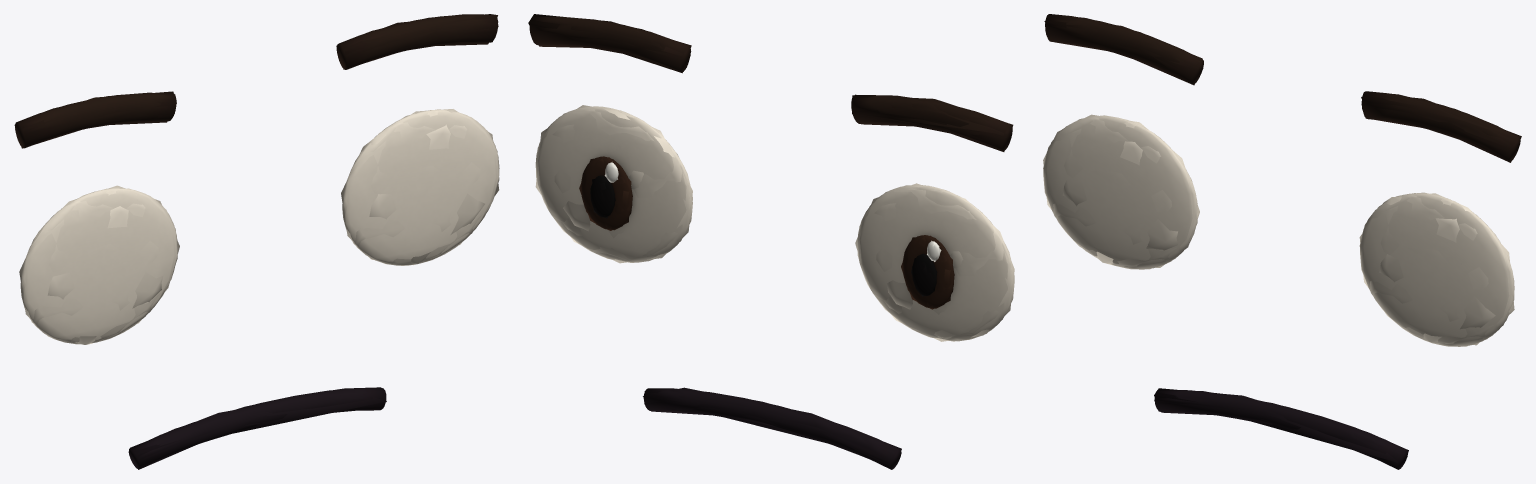
The model's file is worried.glb.
The picture shows the model from 3 angles, left to right: view 1: azimuth 30°, elevation 25°; view 2: azimuth 150°, elevation 25°; view 3: azimuth 330°, elevation 25°; orthographic projection.
Visible parts, largest first — view 1: near, mid, far; view 2: near, mid, far; view 3: near, mid, far.
Boxes of the visible parts, x1,y1,x2,y2 form: near: [15, 14, 499, 469]; mid: [15, 14, 499, 468]; far: [14, 14, 499, 469]; near: [529, 16, 1014, 469]; mid: [530, 16, 1014, 469]; far: [528, 14, 1014, 465]; near: [1043, 14, 1520, 469]; mid: [1043, 15, 1520, 469]; far: [1043, 20, 1521, 468].
Size of the model in its own units: 0.6712 by 0.5098 by 0.0541.
6 materials, 6 textured.
